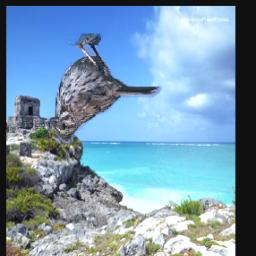Sparrow: (47, 33, 161, 144)
